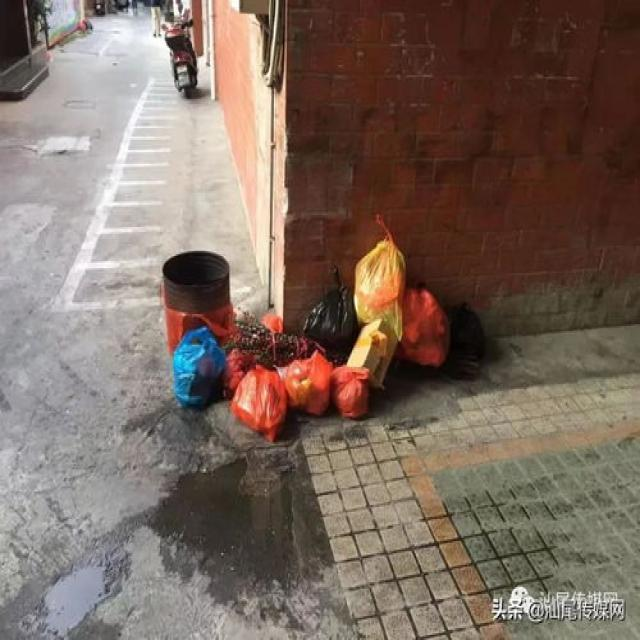garbage: (156, 212, 485, 444)
